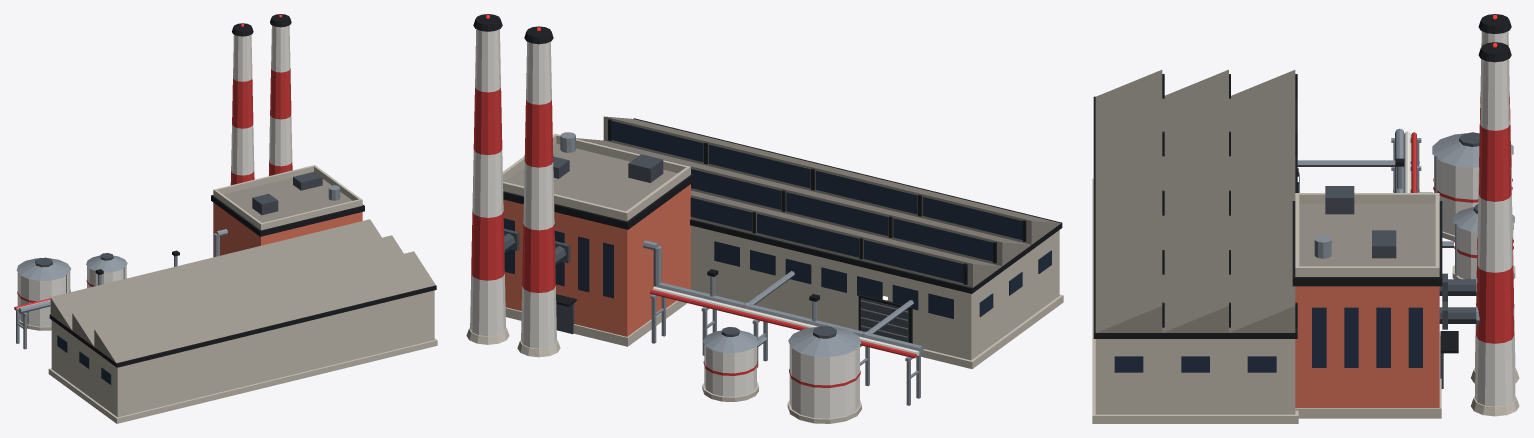
File: factory.glb
3 renders of one model, left to right at view 1: azimuth 30°, elevation 25°; view 2: azimuth 150°, elevation 25°; view 3: azimuth 270°, elevation 25°, orthographic. The views are drawn at different scales.
Parts seen in each view (by area): view 1: Body; view 2: Body; view 3: Body.
Part boxes in pixels (x1,y1,x2,y2): Body: (14,14,437,423); Body: (466,14,1063,423); Body: (1092,14,1519,423).
Size of the model in its own units: 50.6 by 36.12 by 38.5.
